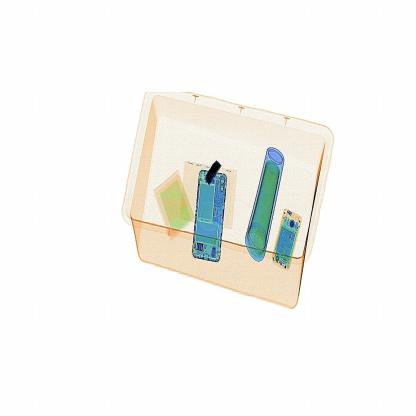scissors: (195, 148, 224, 190)
